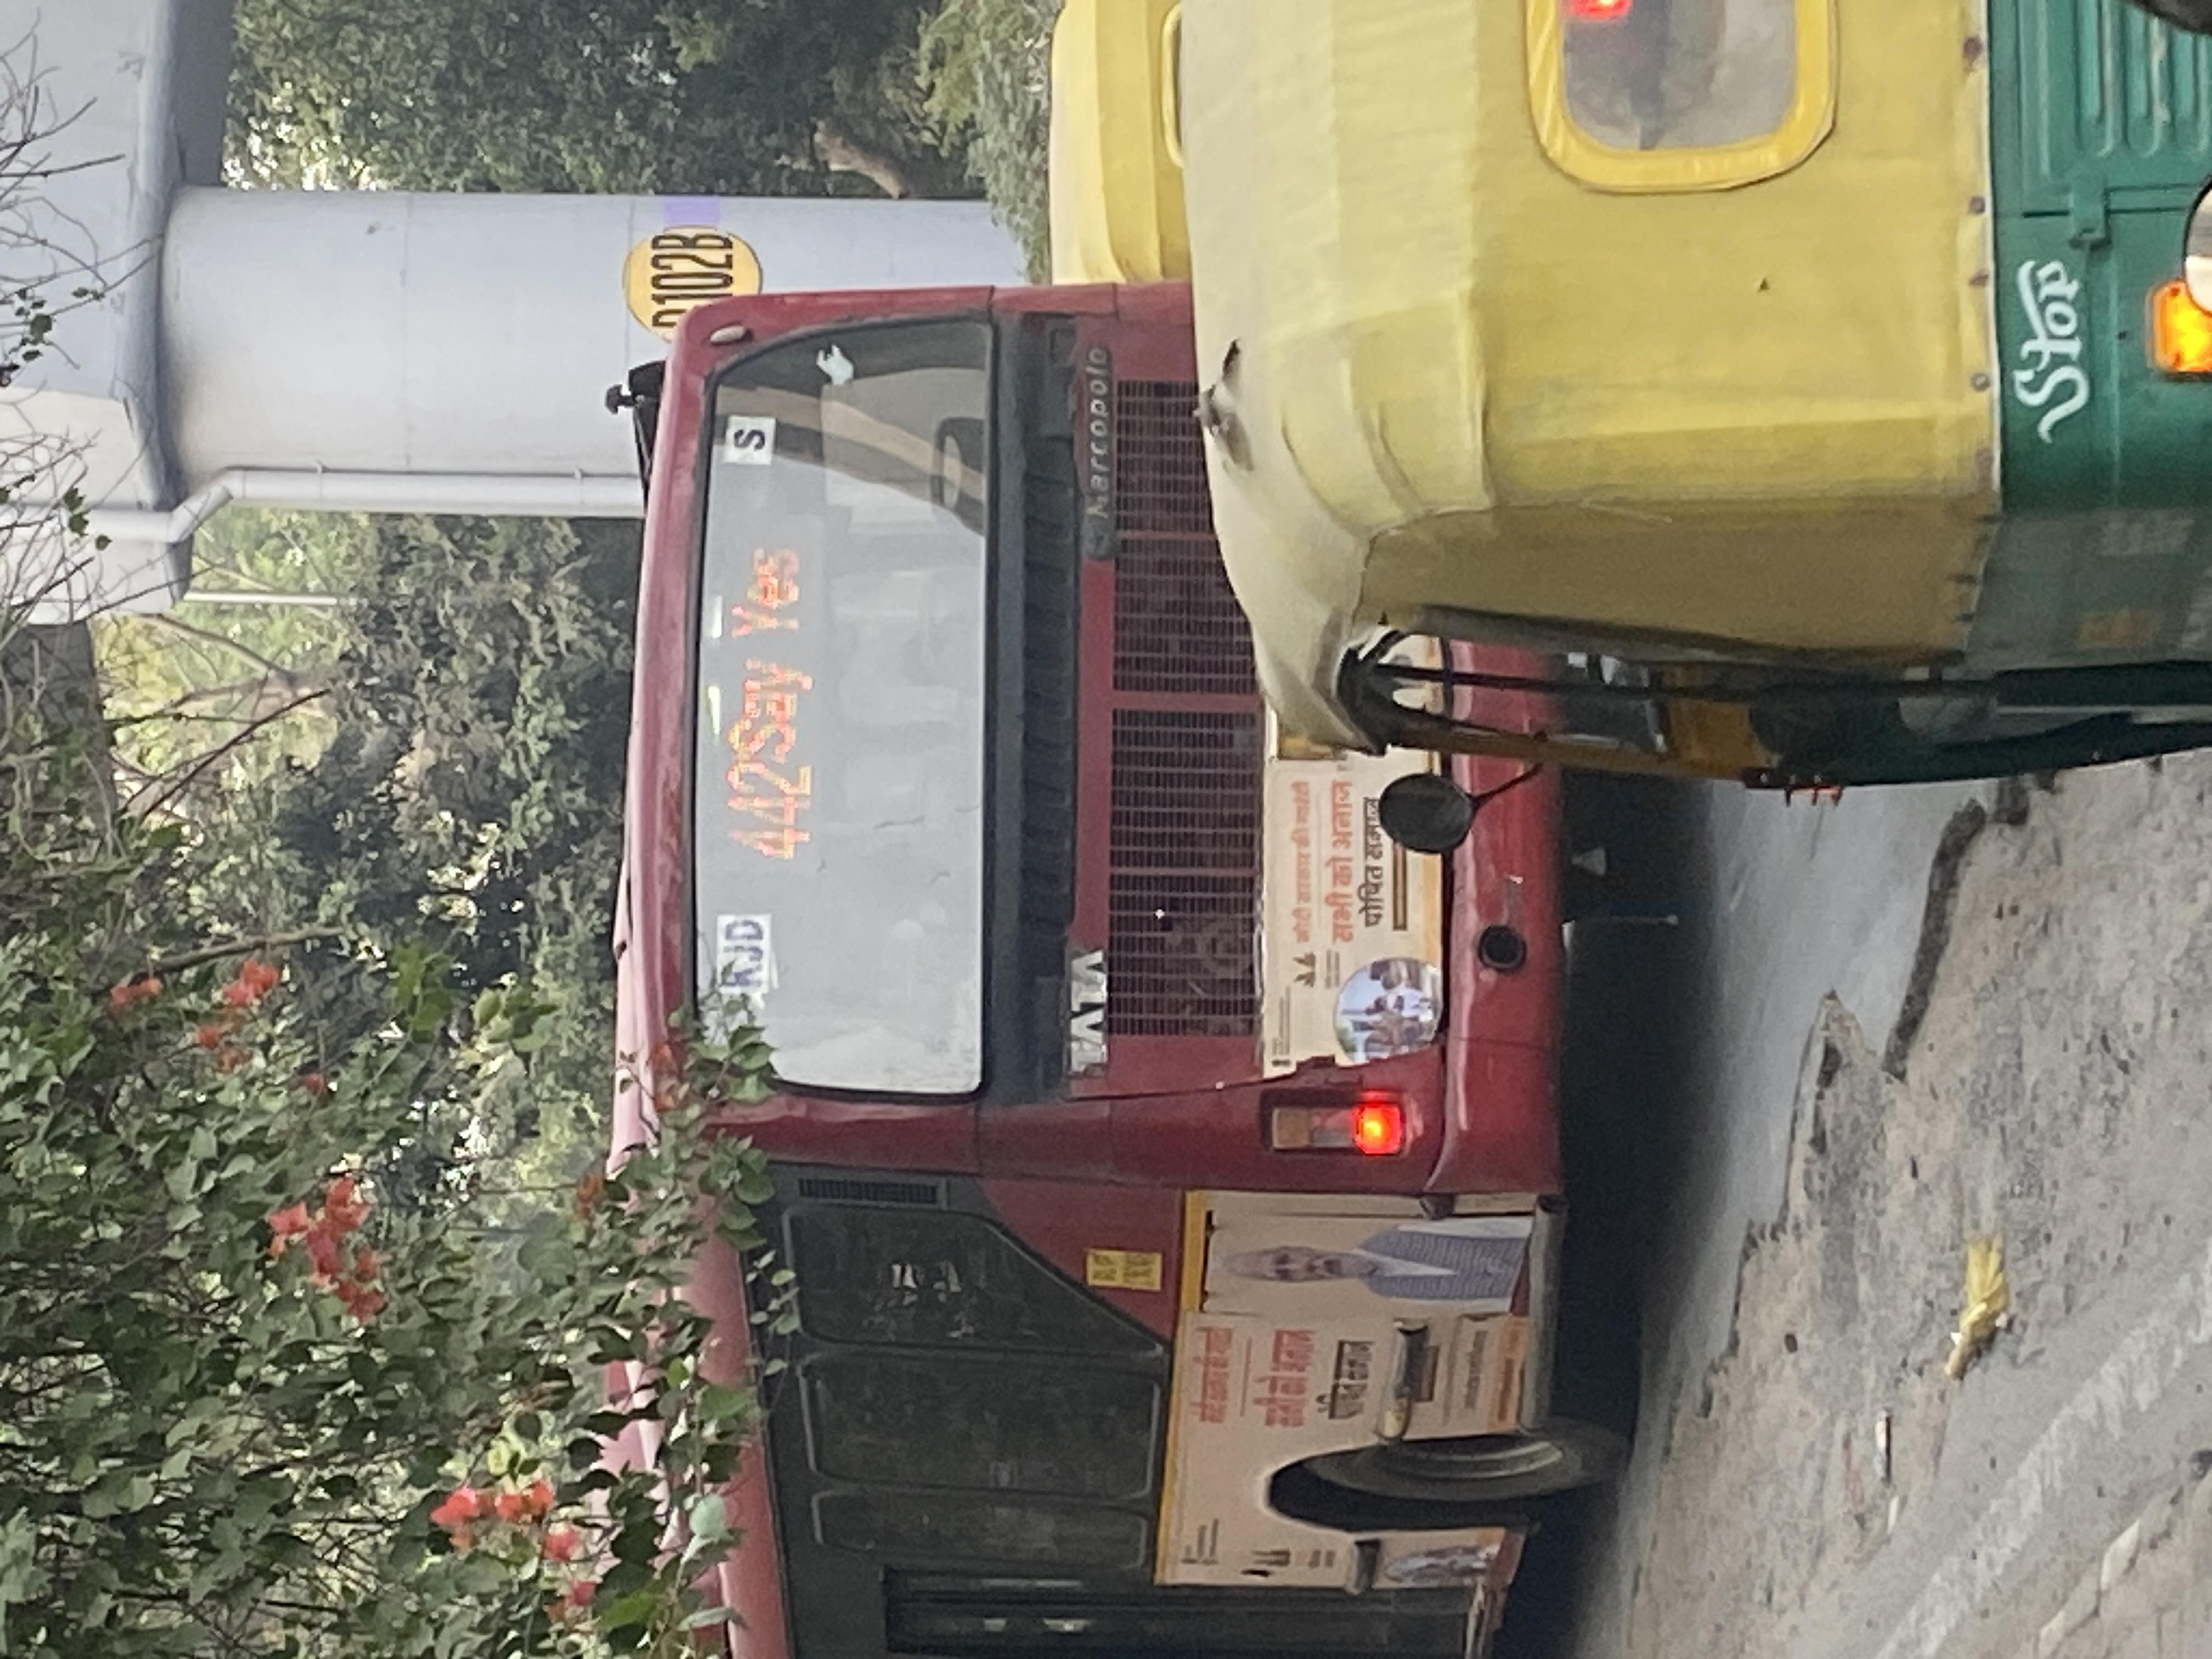Bus: (597, 253, 1602, 1251)
Display Board: (702, 493, 862, 904)
